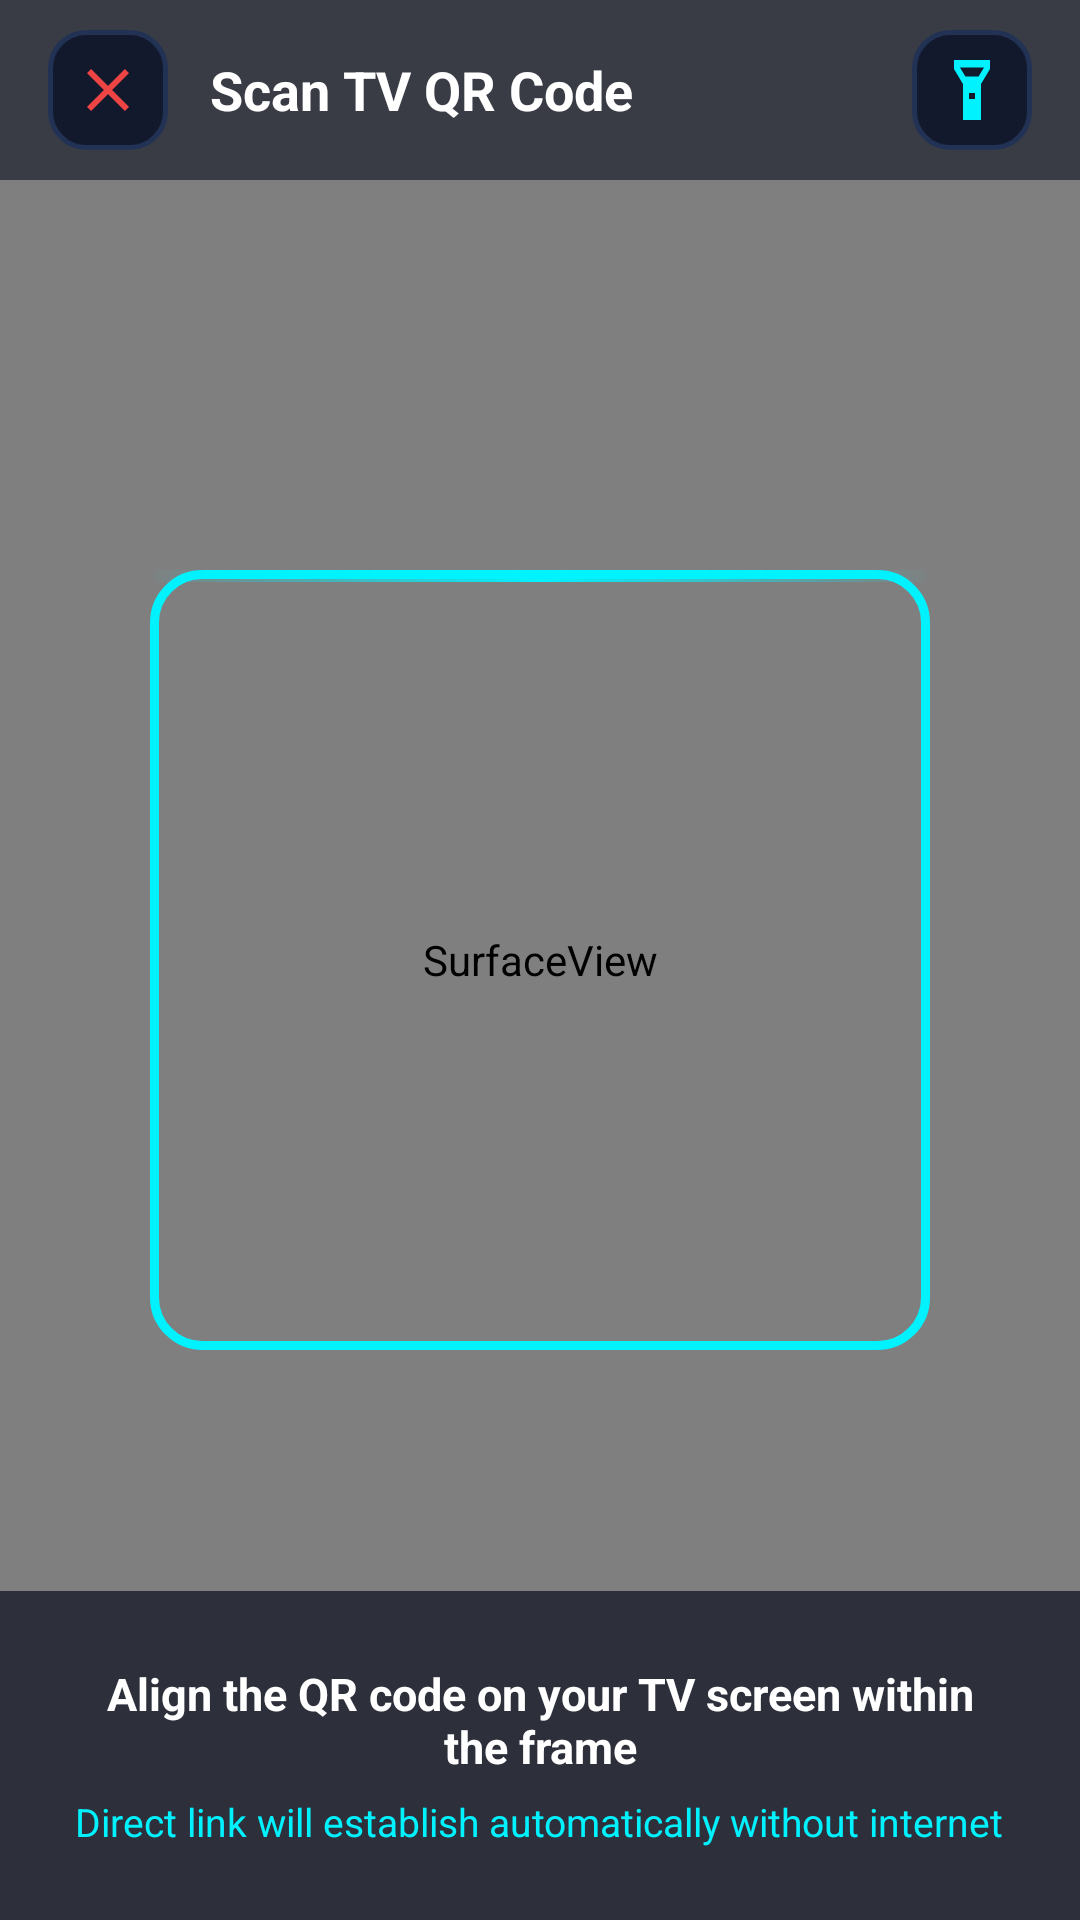

Screen size 1080×1920. Icon name, then its box in pixels as (x1, y1, x2, y2):
close: (53, 35, 163, 145)
flashlight: (917, 35, 1027, 145)
